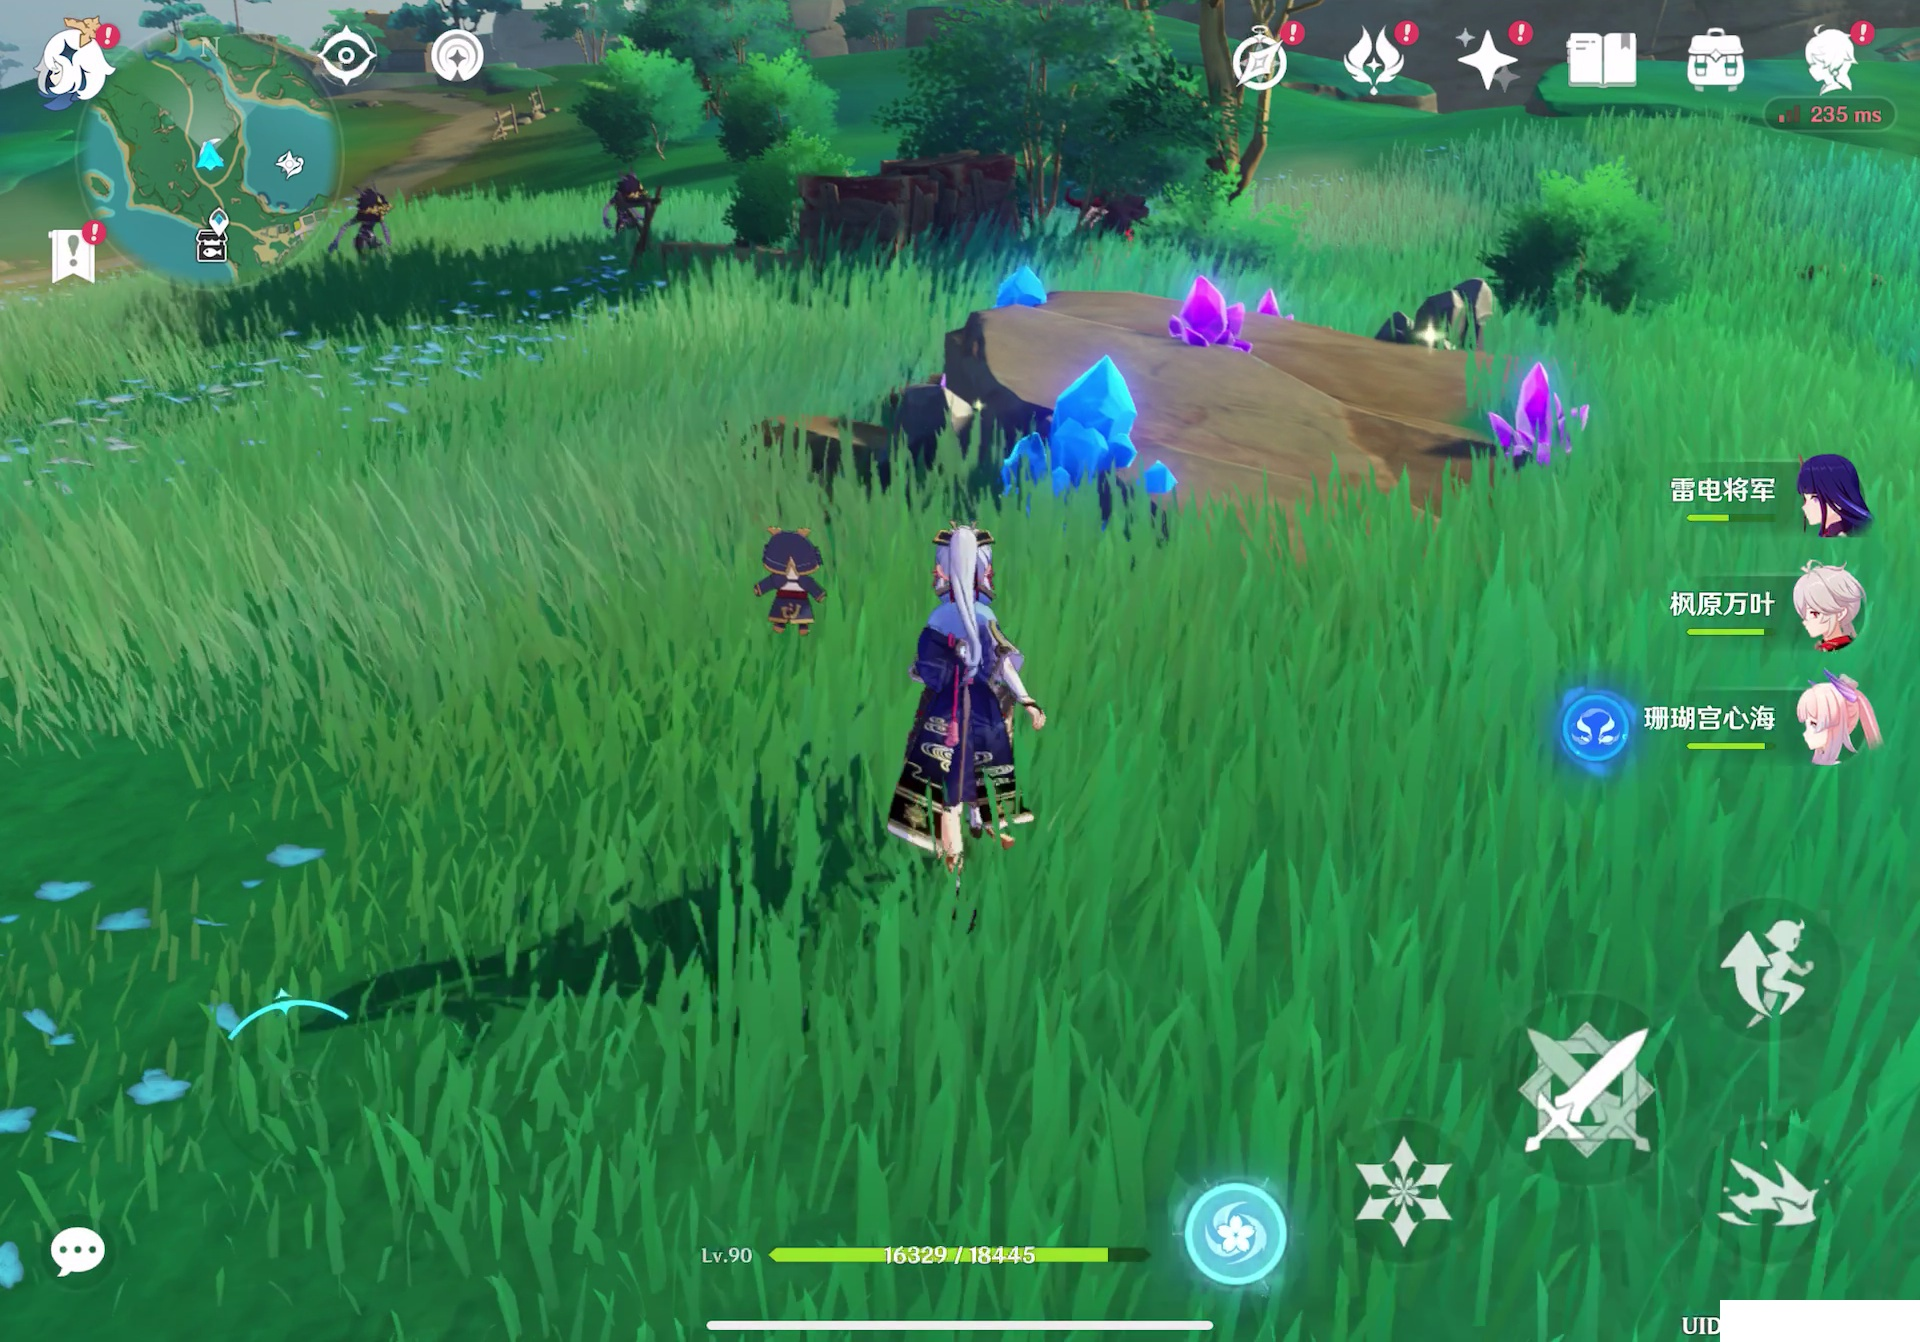丘丘人: (330, 179, 397, 265), (597, 174, 651, 251)
白铁矿石: (1385, 276, 1516, 353), (890, 376, 983, 455)
神里绫龟: (894, 513, 1042, 896)
紫矿石: (1493, 366, 1608, 476), (1161, 284, 1261, 362)
蓝矿石: (1014, 349, 1170, 518), (991, 255, 1067, 319)
